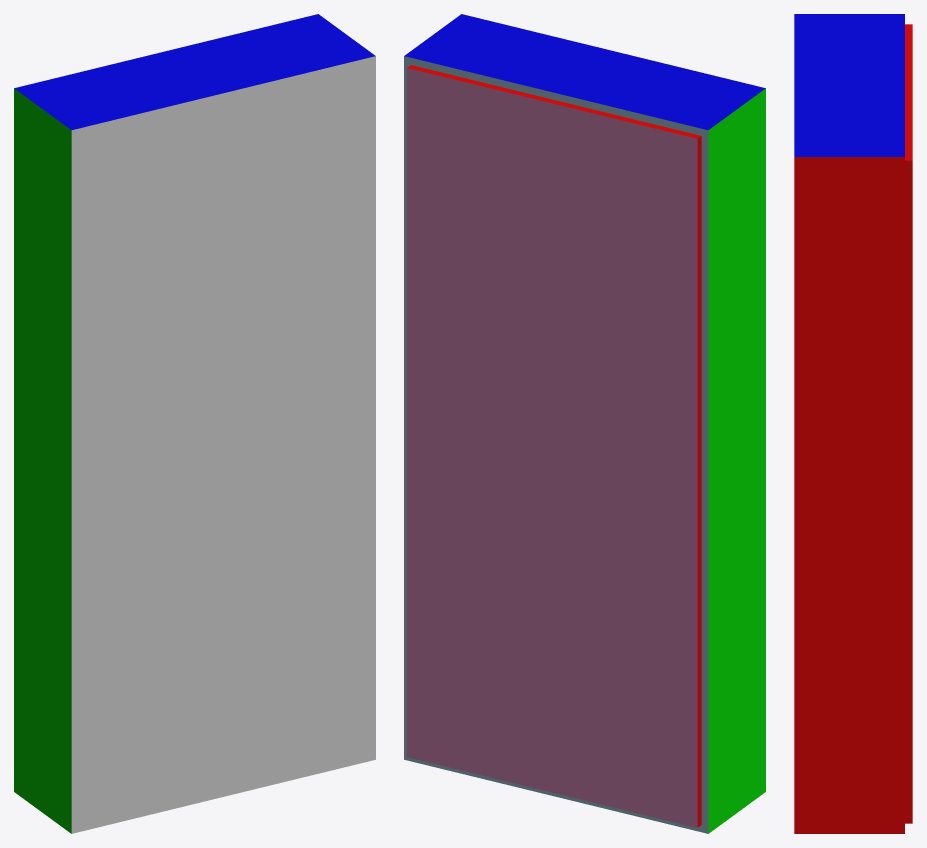
File: phoneBoxColor.fbx
3 views of the same model, side by side, from view 1: azimuth 30°, elevation 25°; view 2: azimuth 150°, elevation 25°; view 3: azimuth 270°, elevation 25° (orthographic). The views are drawn at different scales.
Visible parts, largest first — view 1: P2PRO_JOIN; view 2: P2PRO_JOIN; view 3: P2PRO_JOIN.
Boxes of the visible parts, bbox=[...] form: P2PRO_JOIN: bbox=[14, 14, 375, 833]; P2PRO_JOIN: bbox=[404, 14, 765, 833]; P2PRO_JOIN: bbox=[794, 14, 912, 833].
Size of the model in its own units: 11 by 24.3 by 3.85.
